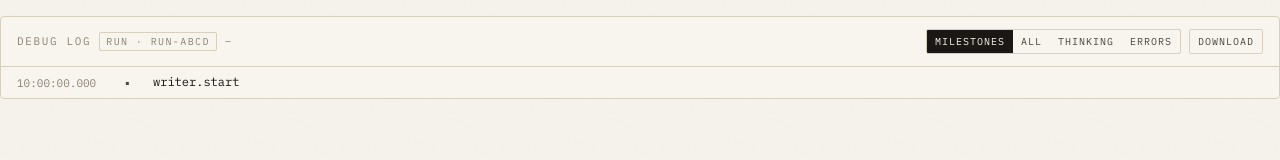
it: DebugLogPanel › hides thinking rows under the default Milestones filter and reveals them on switch
Expected: the text "writer.start" is shown, [153, 73, 239, 91]
Expected: the text "writer.thinking" is not shown
Click the button "Thinking" at x=1086, y=42, box [1050, 30, 1122, 53]
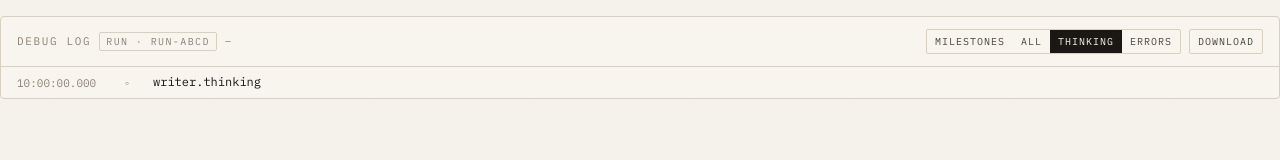
Now the text "writer.thinking" is shown, box [153, 73, 261, 91]
Now the text "writer.start" is gone
